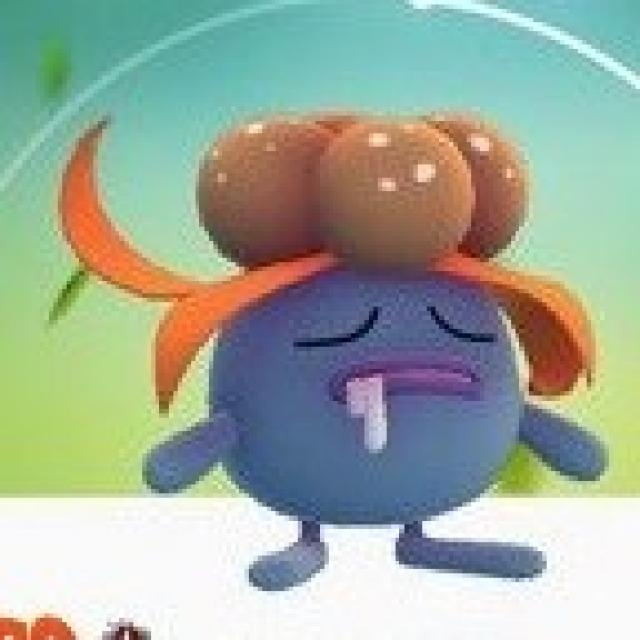Gloom: (167, 111, 613, 605)
